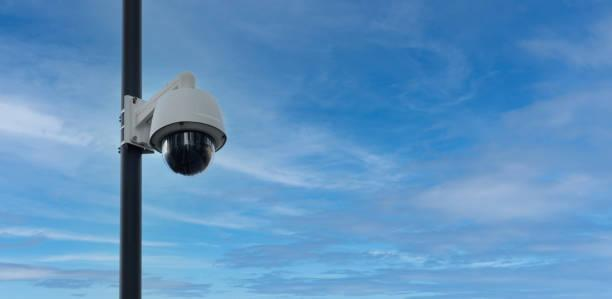360-Cam: (148, 87, 230, 184)
